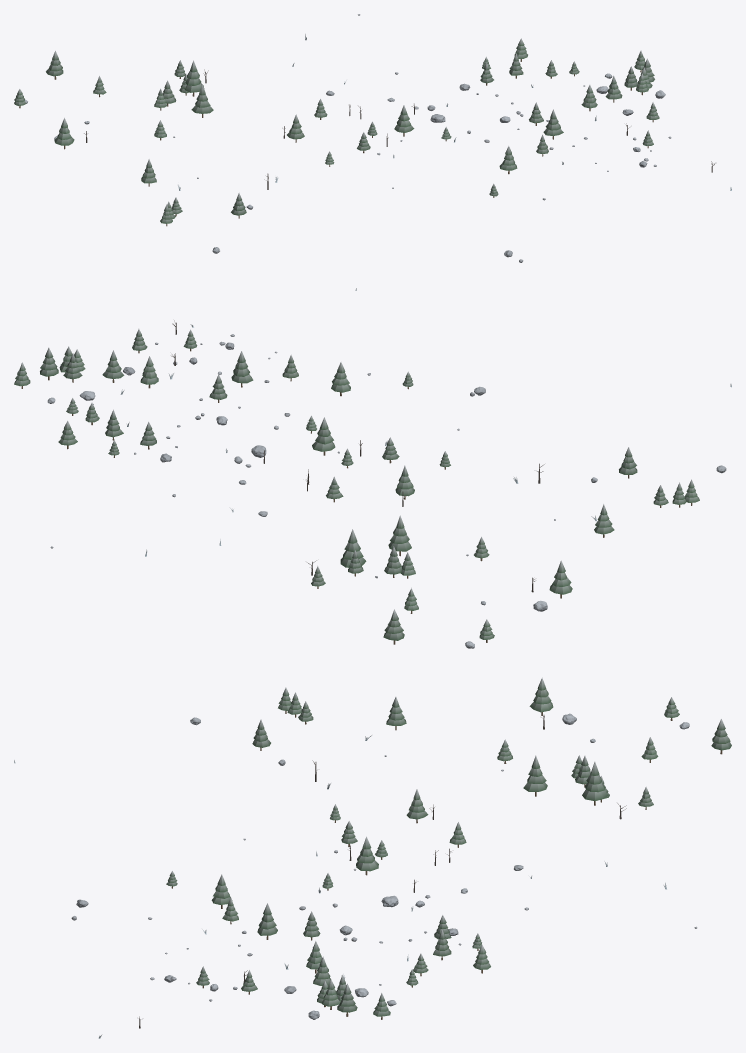
The model's file is frost_land_scatter_c13_11.glb.
3 views of the same model, one above another, from view 1: azimuth 30°, elevation 25°; view 2: azimuth 150°, elevation 25°; view 3: azimuth 270°, elevation 25° (orthographic). The views are drawn at different scales.
Parts seen in each view (by area): view 1: frost_land_scatter_c13_11; view 2: frost_land_scatter_c13_11; view 3: frost_land_scatter_c13_11.
Boxes of the visible parts, box(x1,y1,x2,y2) form: frost_land_scatter_c13_11: box(14, 14, 731, 290); frost_land_scatter_c13_11: box(14, 320, 731, 648); frost_land_scatter_c13_11: box(14, 677, 731, 1038).
Size of the model in its own units: 257 by 34.85 by 249.
